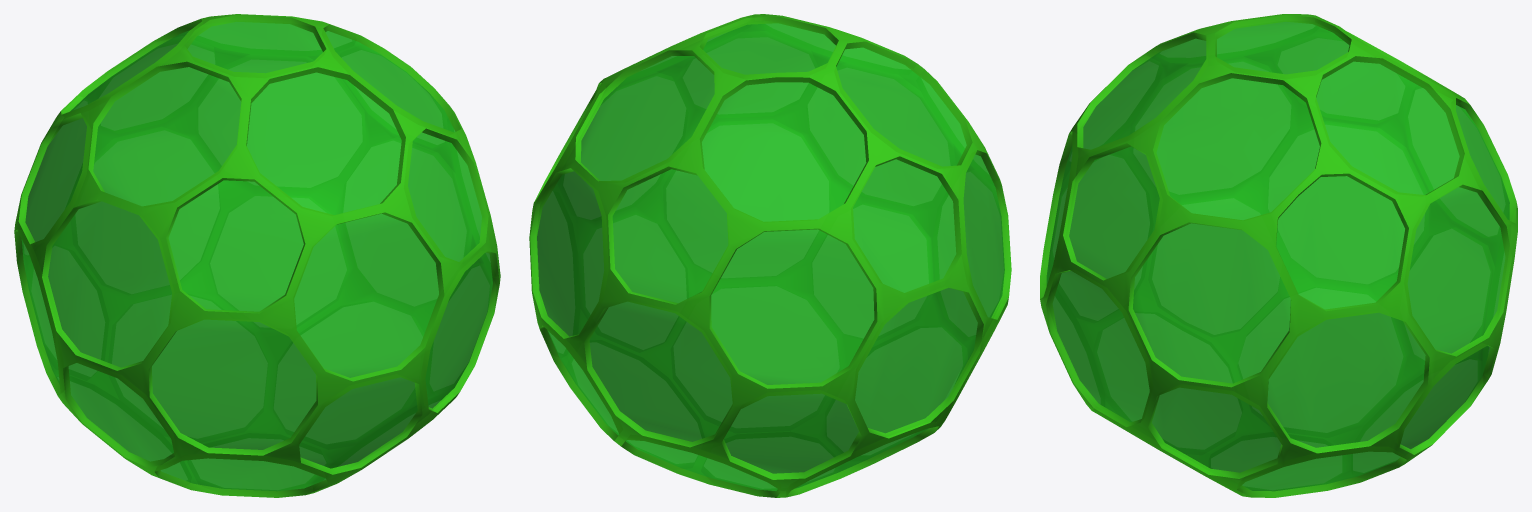
3 renders of one model, left to right at view 1: azimuth 30°, elevation 25°; view 2: azimuth 150°, elevation 25°; view 3: azimuth 270°, elevation 25°, orthographic.
Parts seen in each view (by area): view 1: Object_2, Object_3; view 2: Object_2, Object_3; view 3: Object_2, Object_3.
Part boxes in pixels (x1,y1,x2,y2): Object_2: (21,21,492,491); Object_3: (14,14,500,497); Object_2: (537,23,1004,490); Object_3: (529,14,1011,497); Object_2: (1046,21,1509,491); Object_3: (1040,14,1517,497).
Size of the model in its own units: 19.97 by 19.31 by 19.73.
